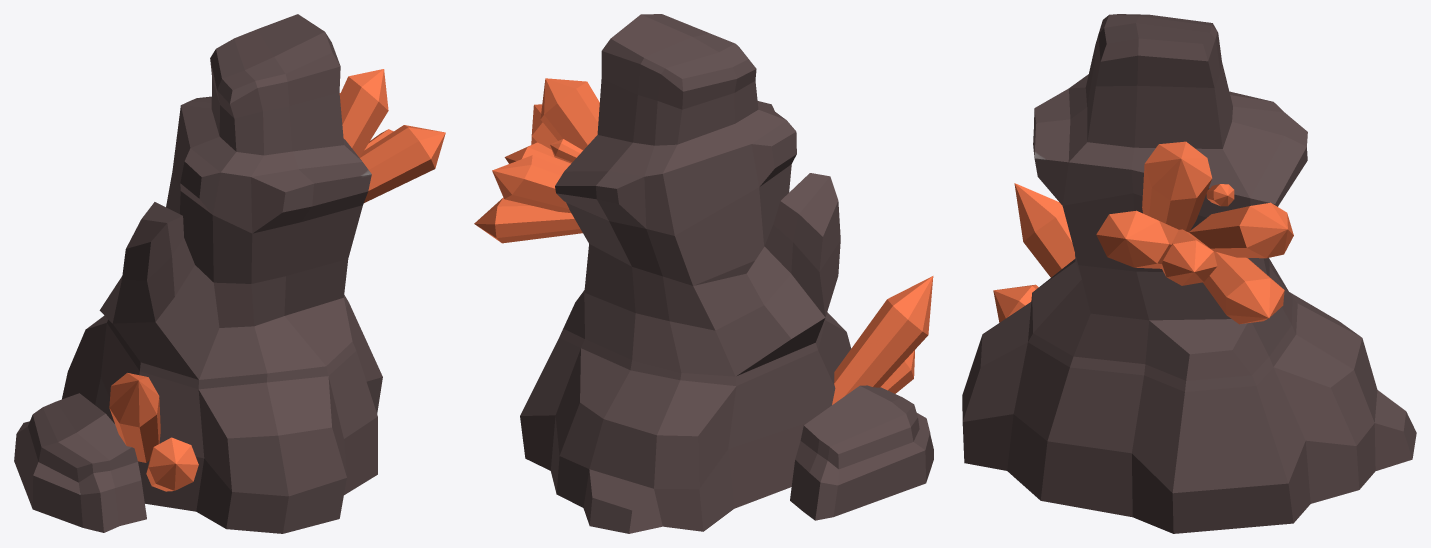
File: Crystal Stone.FBX
The picture shows the model from 3 angles, left to right: view 1: azimuth 30°, elevation 25°; view 2: azimuth 150°, elevation 25°; view 3: azimuth 270°, elevation 25°; orthographic projection. The views are drawn at different scales.
Visible parts, largest first — view 1: Box0011; view 2: Box0011; view 3: Box0011.
Boxes of the visible parts, left/top/right/bottom form: Box0011: left=14, top=14, right=445, bottom=533; Box0011: left=474, top=14, right=933, bottom=533; Box0011: left=962, top=14, right=1416, bottom=533.
Size of the model in its own units: 6.69 by 6.57 by 5.83.
